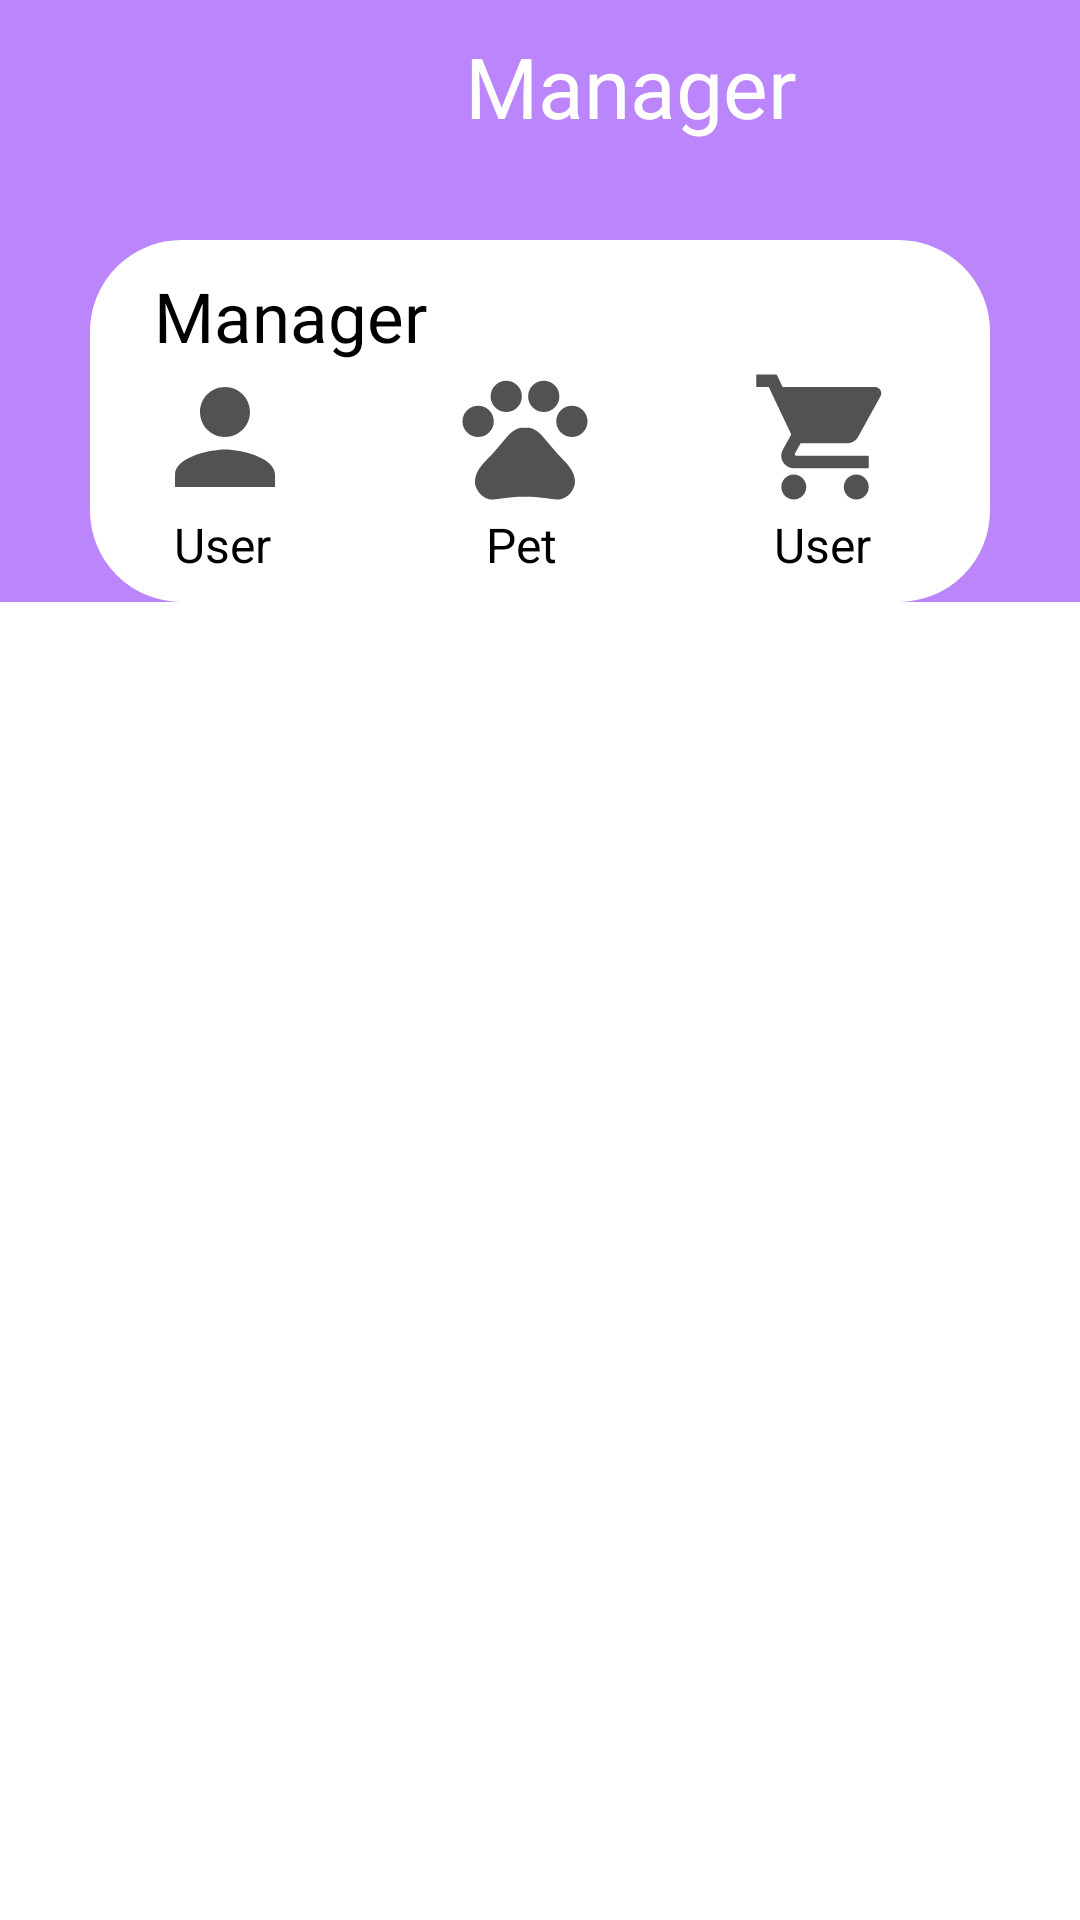

Where to tap for icons on this 1080x1920 app screen, as (x,y):
cart: (819,437)
person: (225,437)
